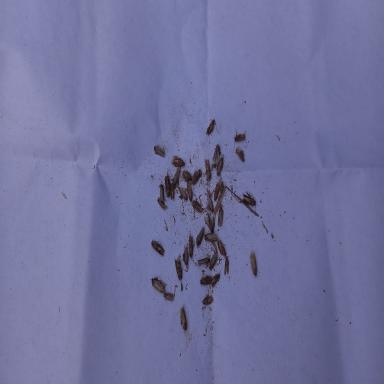pbw: (150, 274, 165, 296), (199, 285, 214, 306), (249, 251, 260, 278), (242, 193, 256, 212), (234, 128, 247, 148), (216, 238, 226, 264), (204, 212, 215, 234), (171, 155, 191, 167), (216, 150, 224, 180), (150, 240, 164, 256), (189, 167, 202, 184), (191, 198, 204, 214), (196, 226, 205, 249), (174, 258, 183, 281), (206, 119, 218, 136), (189, 227, 195, 260), (173, 166, 180, 194), (180, 308, 188, 332), (212, 143, 221, 164), (206, 191, 215, 212), (158, 181, 166, 204), (199, 270, 212, 284), (210, 272, 220, 290), (208, 252, 218, 270), (165, 167, 171, 197), (204, 230, 218, 242), (224, 256, 232, 276), (204, 158, 211, 180), (217, 205, 224, 227), (196, 256, 210, 267), (214, 181, 222, 200), (154, 144, 166, 156), (236, 146, 245, 162), (181, 170, 193, 182), (164, 292, 174, 306), (157, 198, 168, 210), (178, 188, 188, 201), (187, 180, 193, 201), (183, 247, 189, 266), (170, 183, 176, 200)
